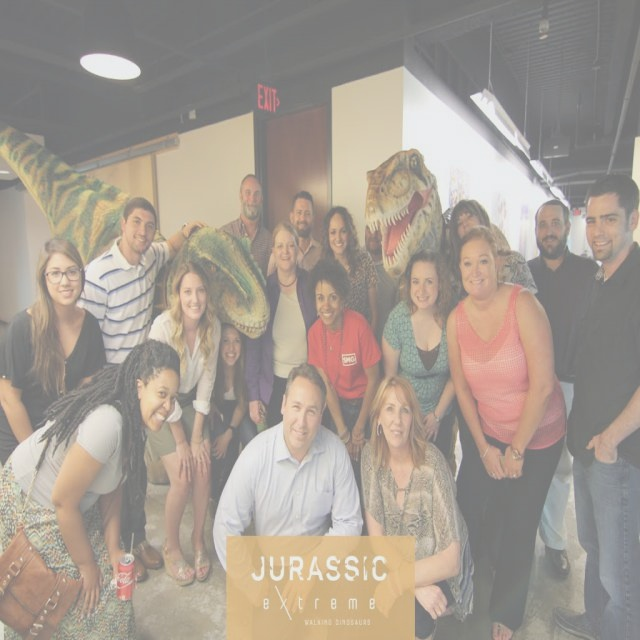pessoa: (0, 335, 183, 639), (75, 194, 212, 586), (443, 224, 568, 639), (214, 358, 366, 639), (560, 168, 640, 640), (358, 373, 474, 639), (526, 196, 600, 582), (144, 260, 224, 586), (0, 236, 109, 472), (306, 253, 382, 536), (379, 247, 462, 462), (244, 218, 320, 430), (206, 318, 260, 522), (318, 202, 384, 342), (448, 198, 539, 298), (215, 172, 277, 278), (264, 190, 328, 278)
